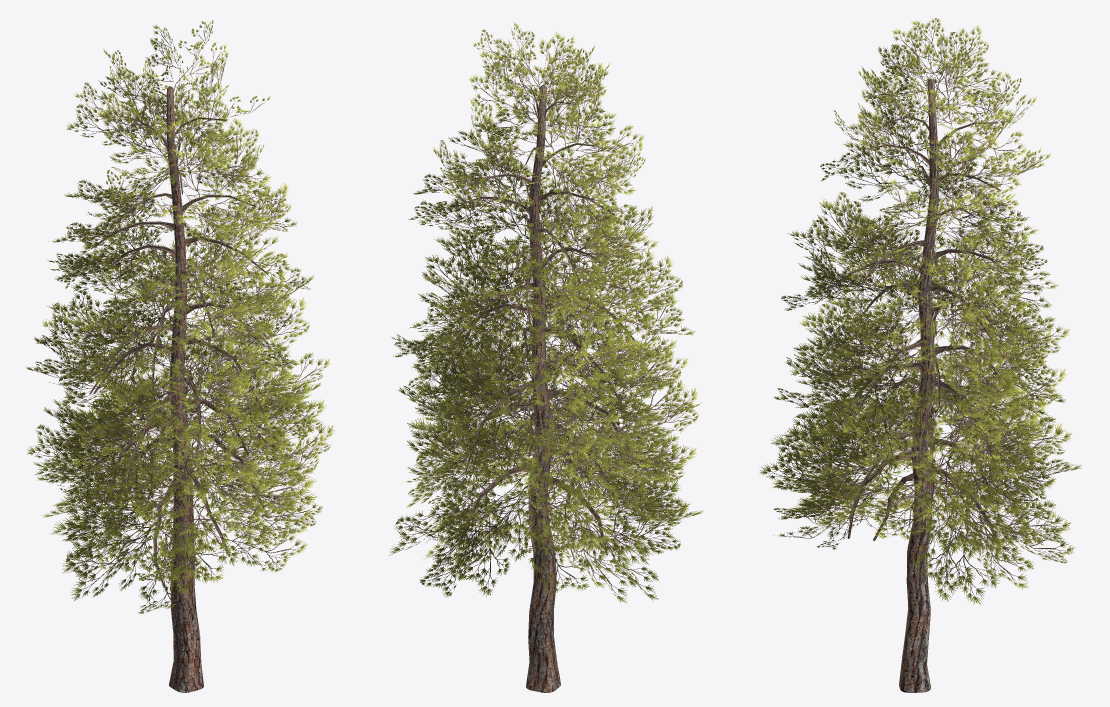
File: Pine_1.fbx
3 views of the same model, side by side, from view 1: azimuth 30°, elevation 25°; view 2: azimuth 150°, elevation 25°; view 3: azimuth 270°, elevation 25° (orthographic). The views are drawn at different scales.
Parts seen in each view (by area): view 1: Tree_1, Tree_0; view 2: Tree_1, Tree_0; view 3: Tree_1, Tree_0.
Boxes of the visible parts, box(x1,y1,x2,y2) form: Tree_1: box(26, 20, 335, 613); Tree_0: box(89, 58, 268, 692); Tree_1: box(389, 22, 703, 602); Tree_0: box(447, 55, 635, 692); Tree_1: box(759, 18, 1081, 604); Tree_0: box(827, 64, 1010, 692).
Size of the model in its own units: 165 by 353 by 171.
